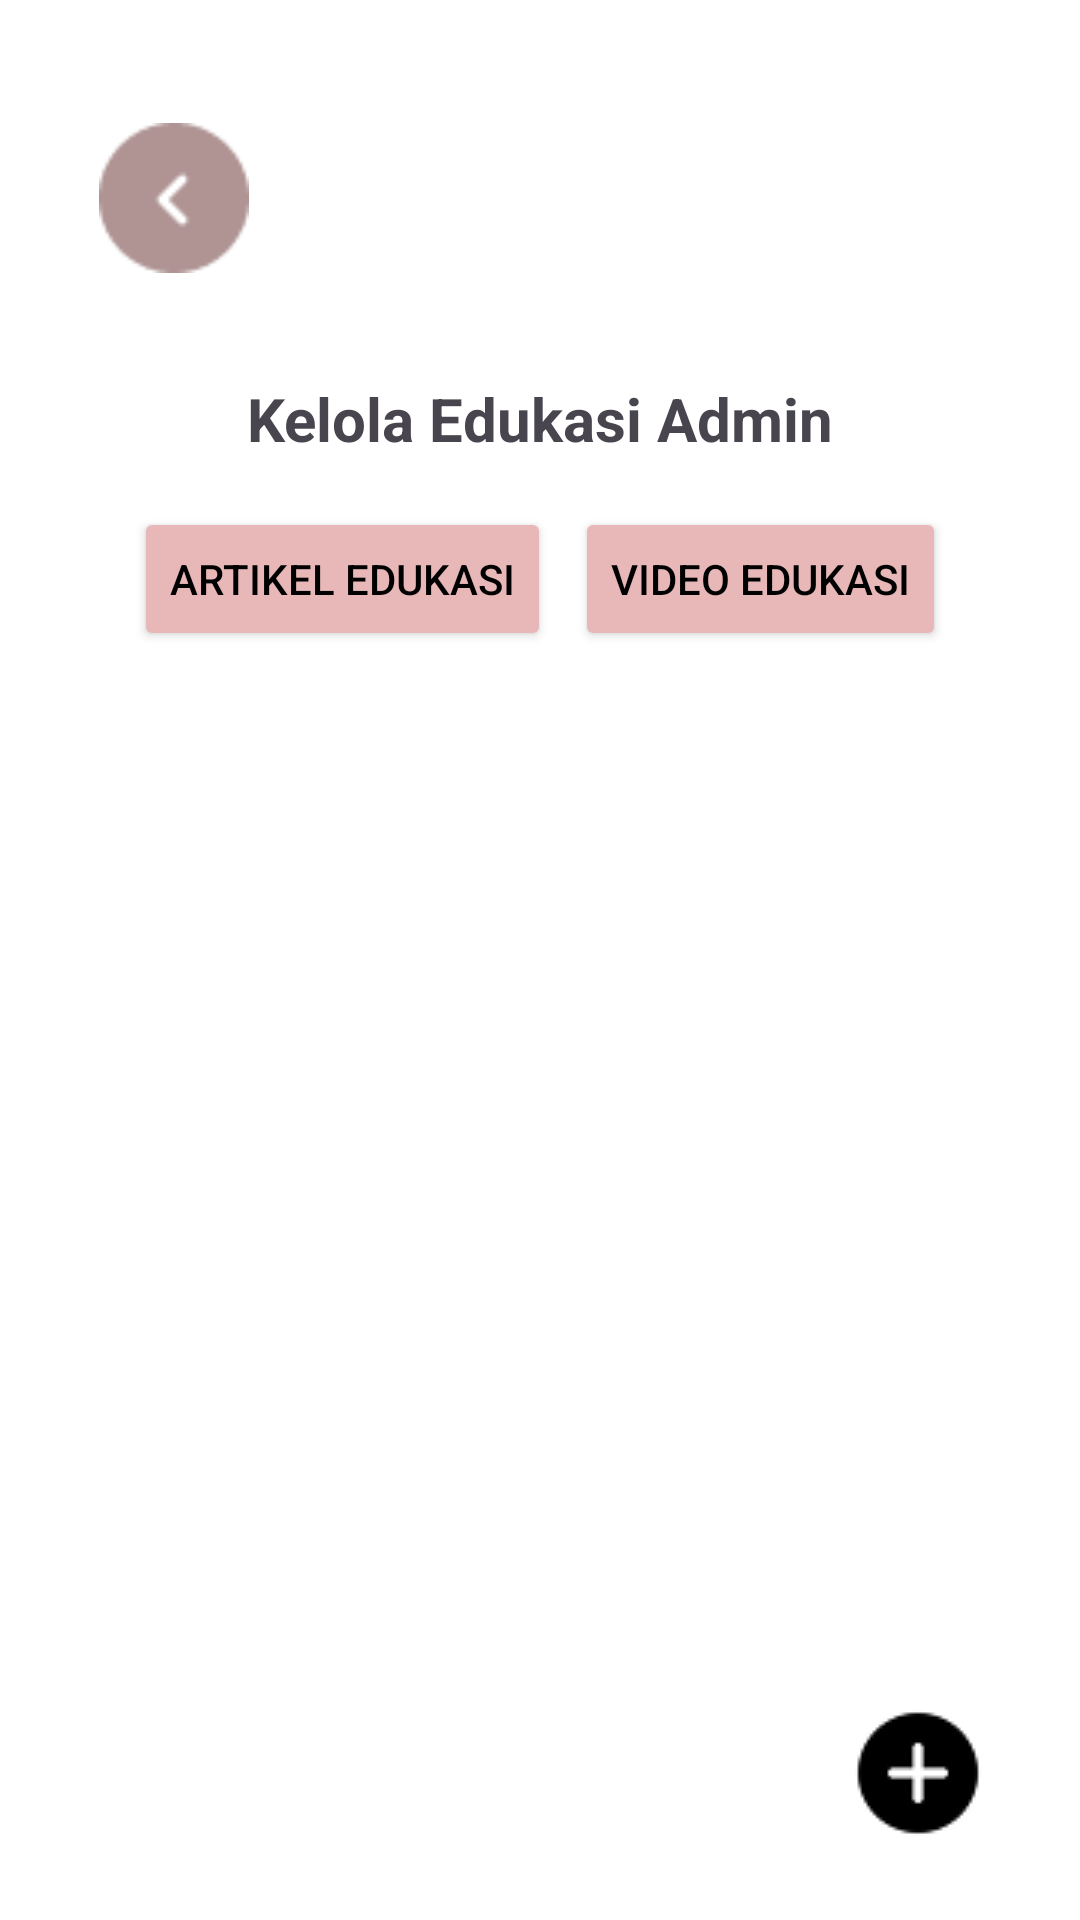

Named icons in this screenshot (1080 × 1920) and their centers, (x,y):
back home: (174,198)
Tambah: (918,1773)
